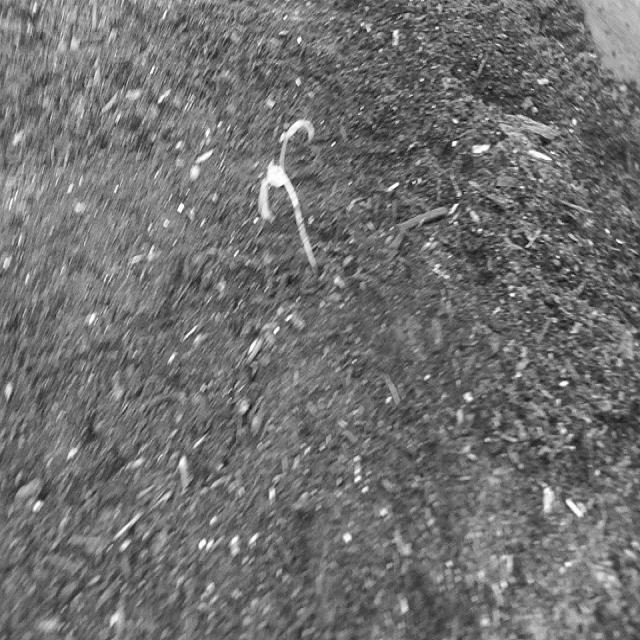Healthy: (244, 99, 346, 310)
